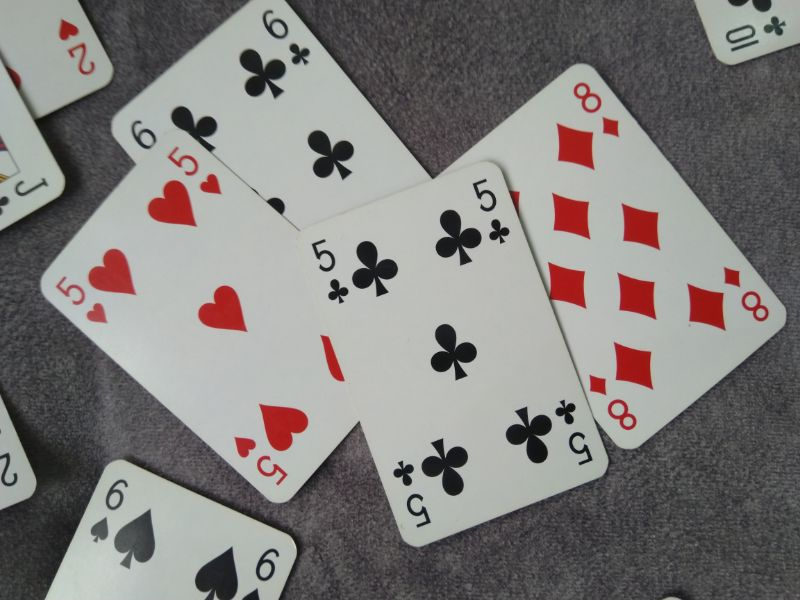2h: (54, 14, 100, 78)
5c: (310, 232, 351, 308), (470, 174, 512, 247), (391, 457, 433, 530), (554, 395, 594, 469)
5h: (164, 143, 225, 198), (54, 272, 114, 326), (231, 434, 290, 488)
6c: (257, 7, 313, 69)
6s: (88, 475, 133, 545)
8d: (585, 369, 638, 432), (719, 263, 772, 325), (571, 79, 623, 139)
Tc: (722, 13, 788, 53)
